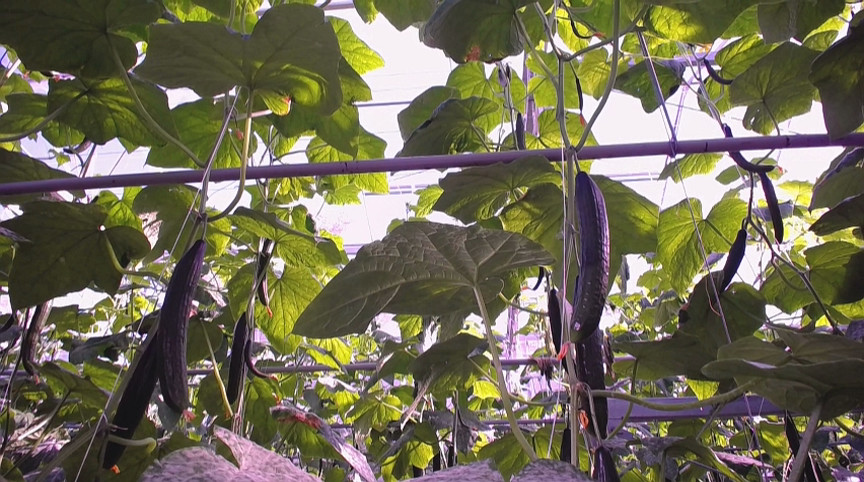cucumber: (158, 237, 206, 415), (569, 170, 610, 343), (104, 337, 158, 466), (578, 325, 607, 440), (229, 311, 250, 406), (759, 172, 784, 243)
